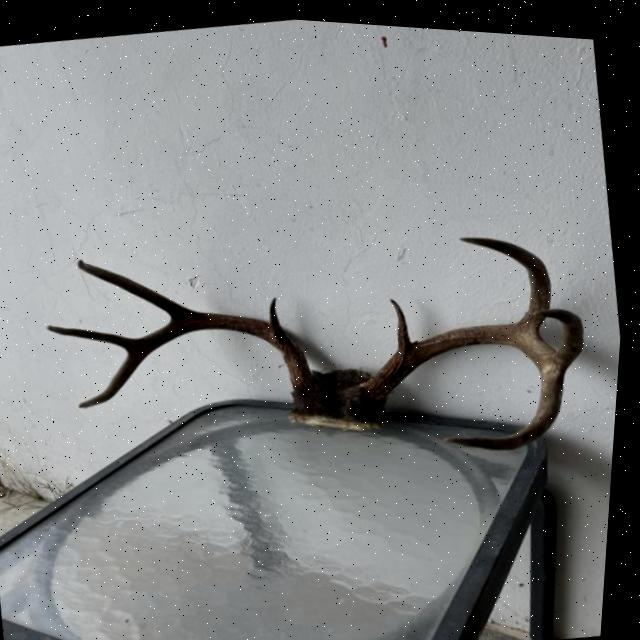L-F: (365, 318, 570, 443)
L-G1: (393, 293, 423, 349)
R-F: (83, 311, 317, 408)
R-G1: (273, 293, 291, 334)
R-G2: (81, 258, 206, 319)
R-G3: (50, 324, 149, 354)
